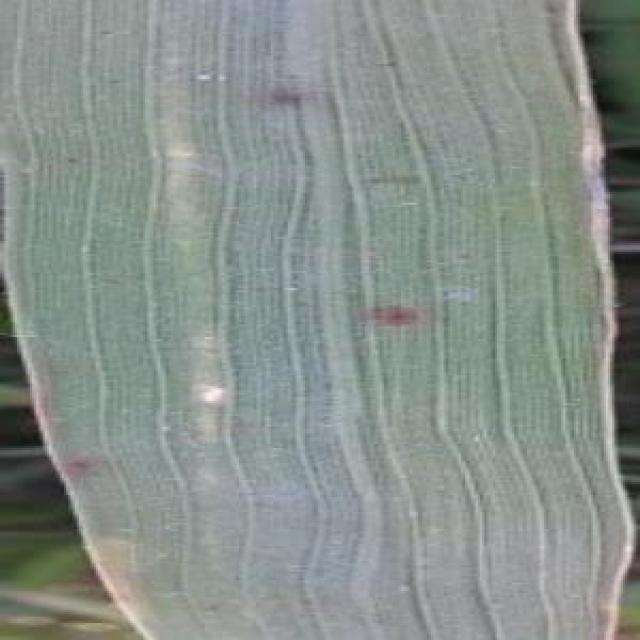brownspots: (362, 288, 458, 348)
